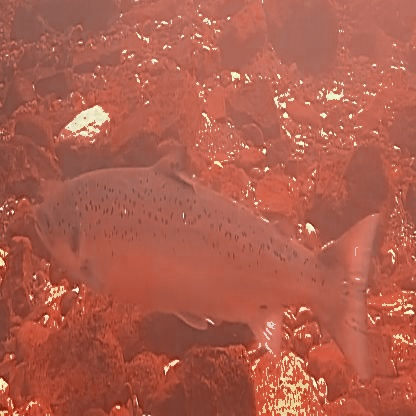salmon: (30, 138, 383, 386)
